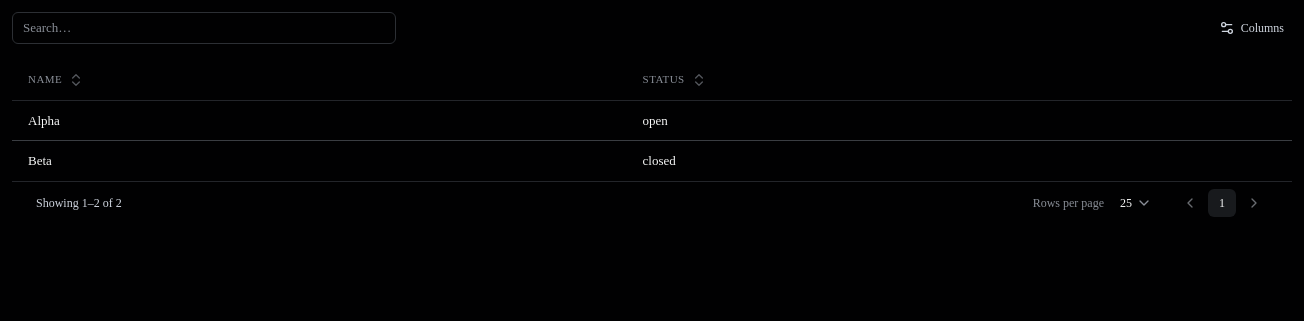
Test: DataTable — loading + empty › shows no-results state with Clear filters when a filter is active
This screenshot has width=1304, height=321.
Type "zzz-no-match" into the field with placeholder "Search…" at [204, 28], box [12,12,396,44]
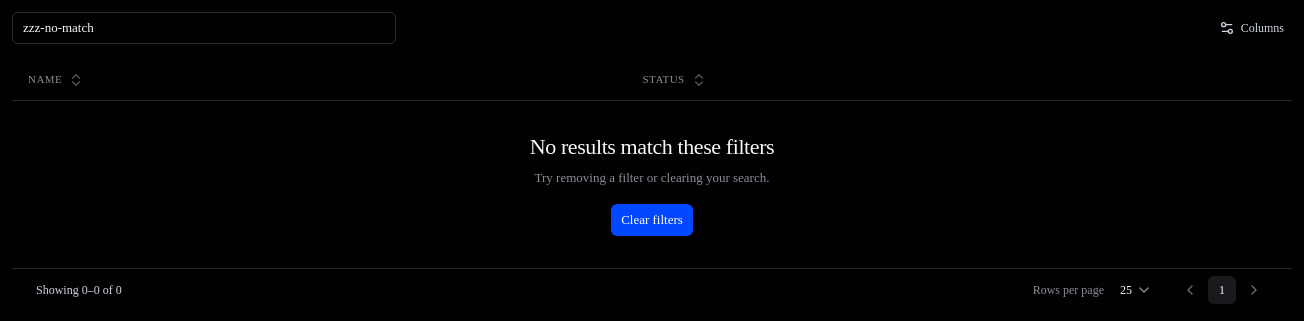
Now the heading "No results match these filters" is shown, box [530,132,774,160]
Click the button "Clear filters" at [652, 220], box [611,204,693,236]
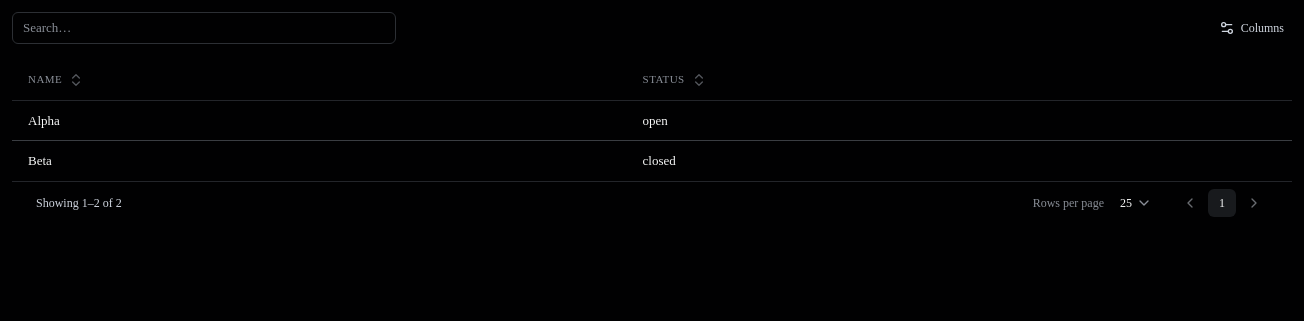
Now the text "Alpha" is shown, box [12,100,627,140]
